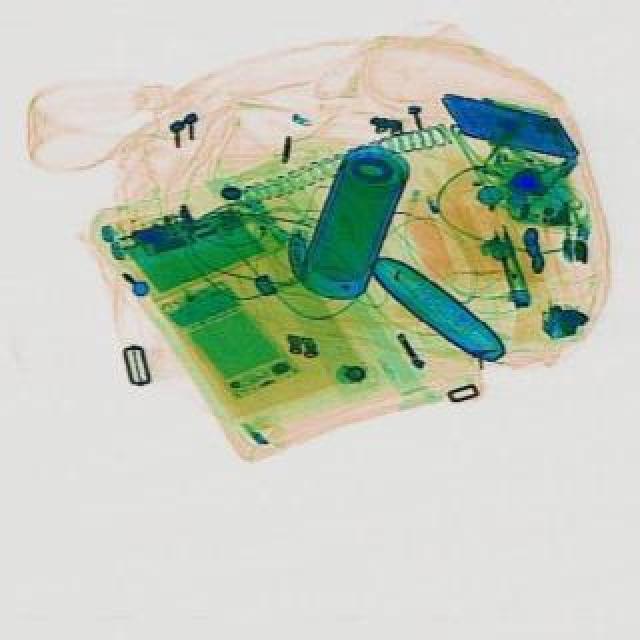pliers: (486, 222, 532, 310)
